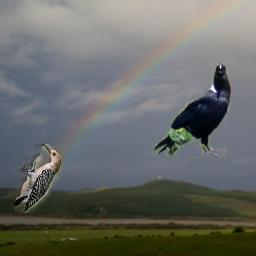Crow: (152, 62, 232, 158)
Woodpecker: (14, 144, 61, 213)
